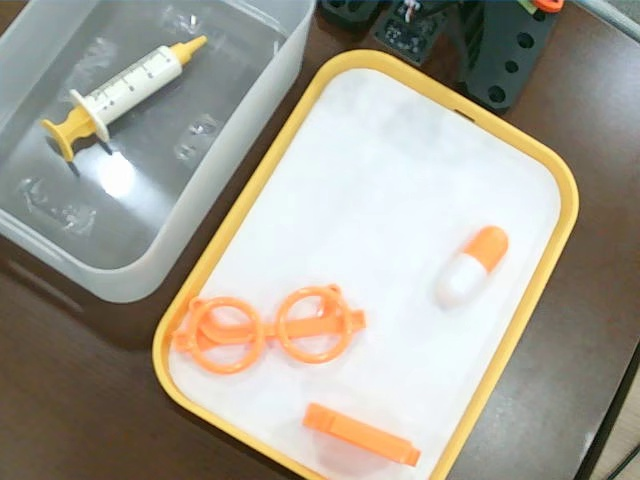pill: (437, 225, 509, 309)
syringe: (42, 33, 207, 163)
